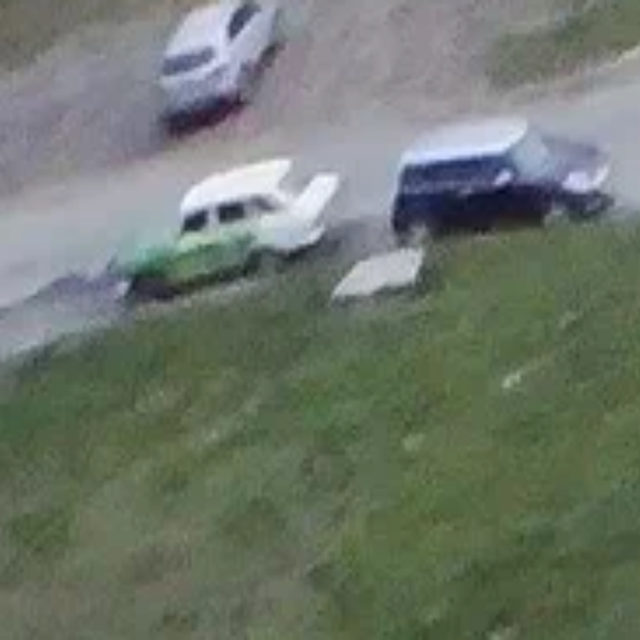car: (112, 157, 345, 303), (390, 115, 614, 239), (151, 1, 284, 117)
